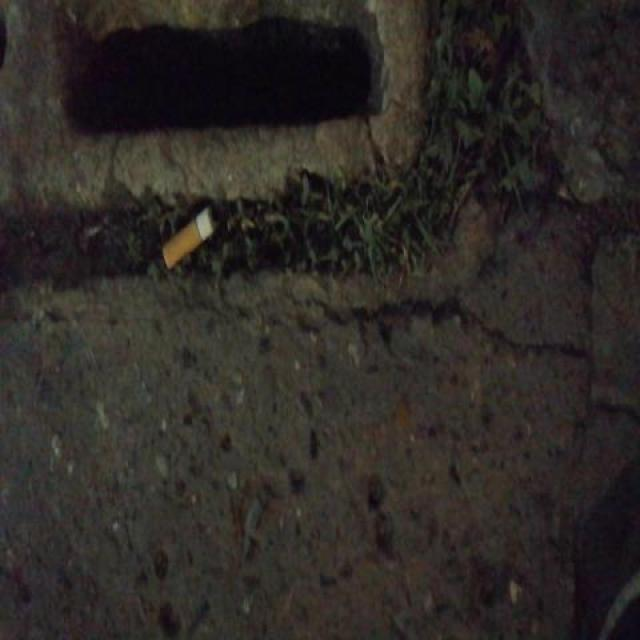non-organic waste: (157, 200, 223, 276)
